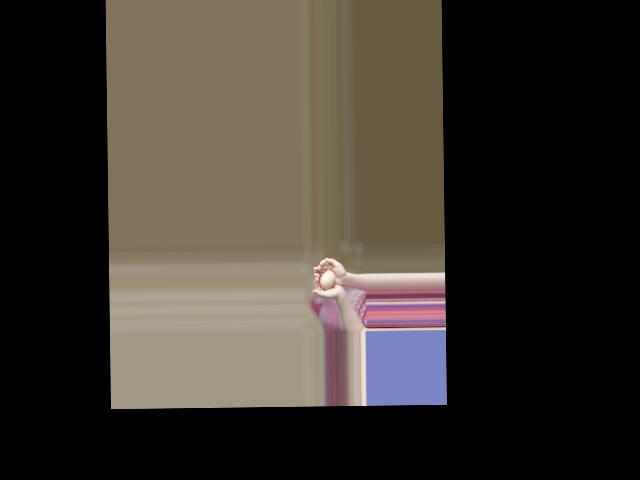egg: (319, 271, 334, 290)
